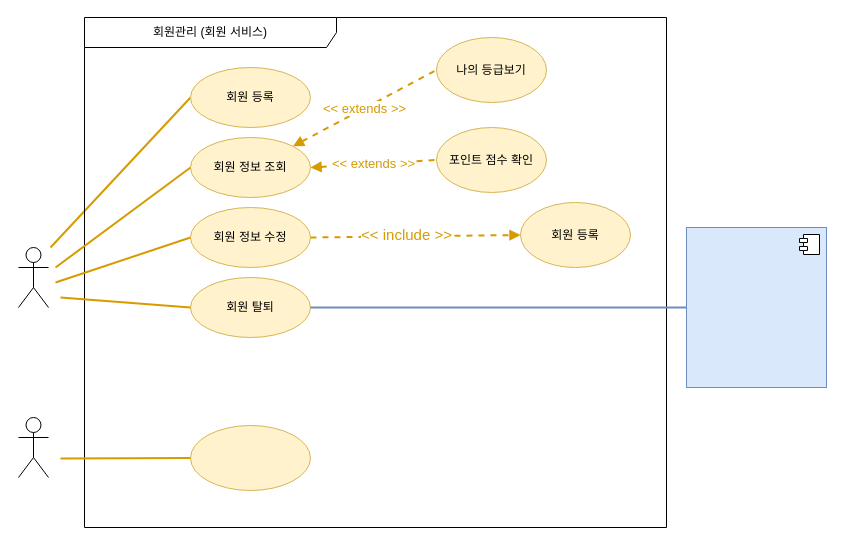
The diagram is 844 pixels wide and 545 high, and some of its shapes have lost their labels. The shapes that lost their labels are listed below. From the top down, each one's centre as x and y in pixels, then its label:
point 33,277: 이용자
point 756,307: DBMS
point 33,447: 관리자
point 250,457: 회원 전체 조회
